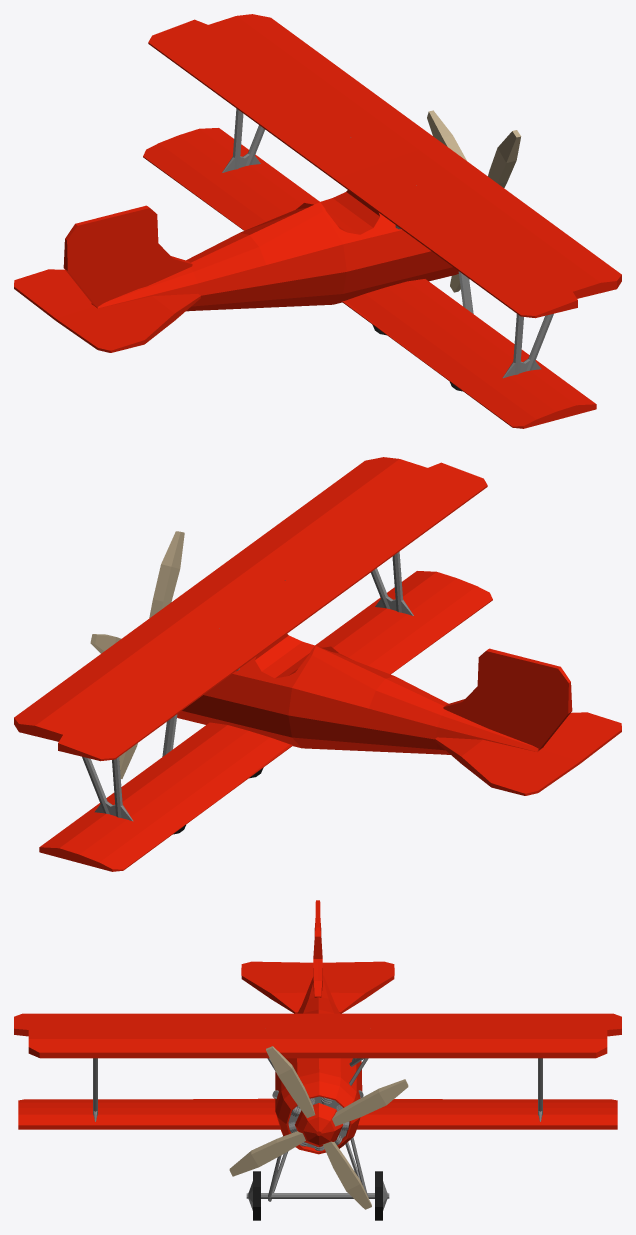
Rendered from biplane.glb.
3 renders of one model, top to bottom at view 1: azimuth 30°, elevation 25°; view 2: azimuth 150°, elevation 25°; view 3: azimuth 270°, elevation 25°, orthographic. The views are drawn at different scales.
Visible parts, largest first — view 1: plane, fuselage, Cylinder; view 2: plane, fuselage, Cylinder; view 3: plane, Cylinder, fuselage.
Part boxes in pixels (x1=…): plane: x1=14, y1=14, x2=621, y2=428; fuselage: x1=91, y1=190, x2=458, y2=311; Cylinder: x1=427, y1=110, x2=521, y2=292; plane: x1=14, y1=457, x2=621, y2=871; fuselage: x1=177, y1=634, x2=543, y2=754; Cylinder: x1=90, y1=531, x2=184, y2=778; plane: x1=14, y1=900, x2=621, y2=1220; Cylinder: x1=229, y1=1046, x2=408, y2=1209; fuselage: x1=275, y1=975, x2=362, y2=1154.
Bounding box in the file's own units: 5.66 × 2.95 × 8.44.
